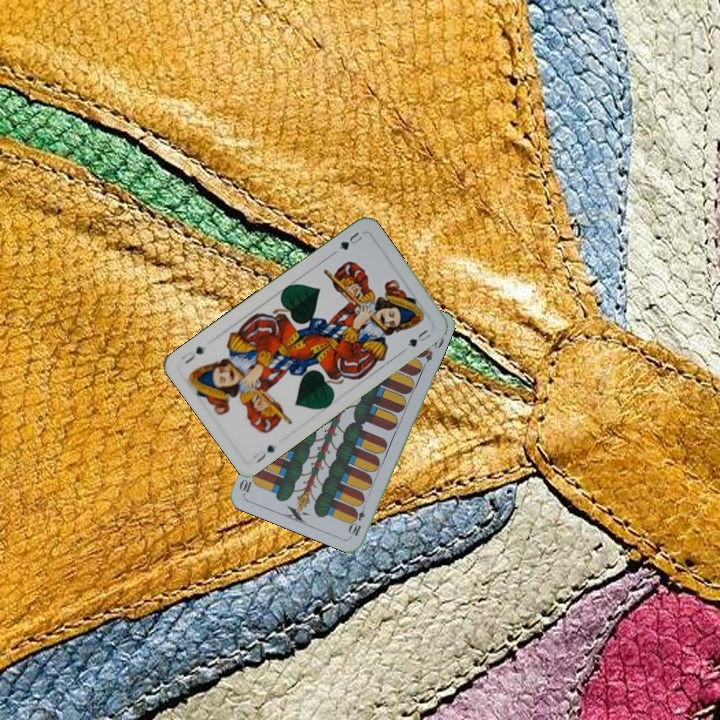E10: (346, 499, 368, 539)
GU: (335, 228, 365, 253), (249, 441, 278, 466)
